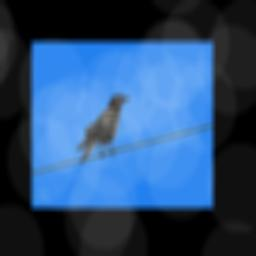Crow: (76, 94, 133, 164)
